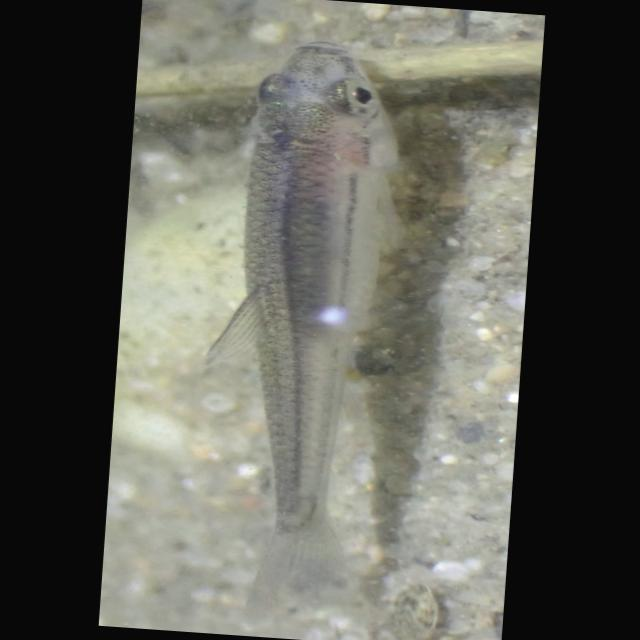Cakil Baligi: (176, 14, 434, 640)
